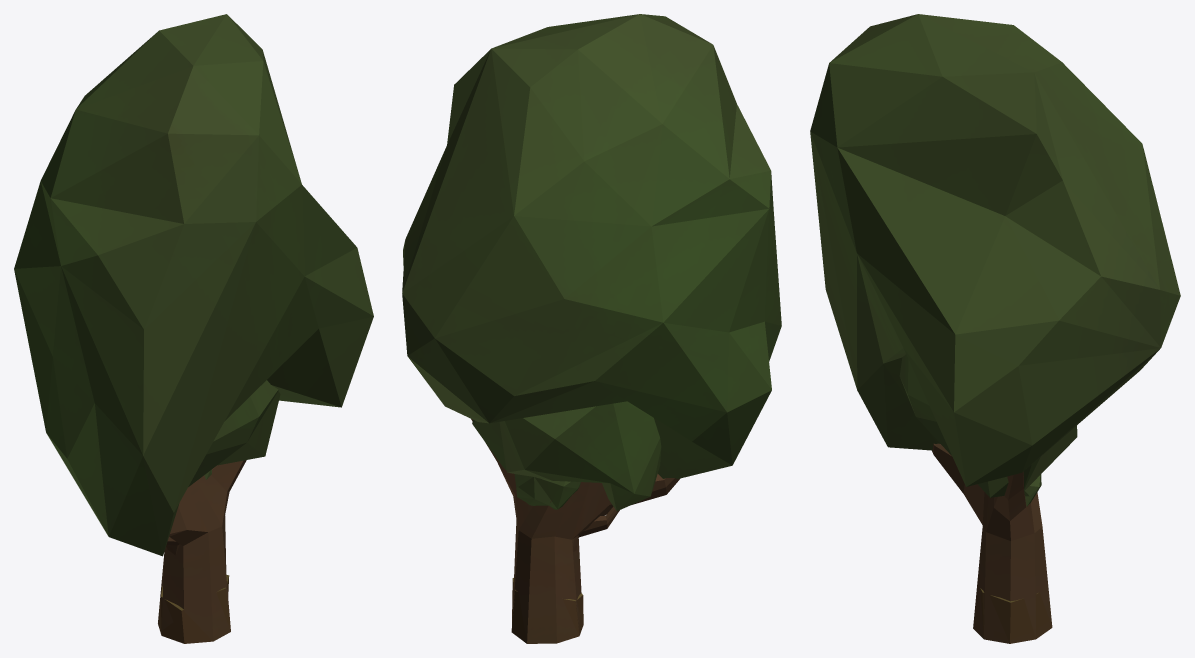
File: tree5V1.fbx
The picture shows the model from 3 angles, left to right: view 1: azimuth 30°, elevation 25°; view 2: azimuth 150°, elevation 25°; view 3: azimuth 270°, elevation 25°; orthographic projection. The views are drawn at different scales.
Parts seen in each view (by area): view 1: Tree5, Tree5Stage3, Tree5Stub; view 2: Tree5, Tree5Stage3, Tree5Stage2, Tree5Stub; view 3: Tree5, Tree5Stage3, Tree5Stub.
Part boxes in pixels (left/top/right/bottom): Tree5: left=14, top=14, right=373, bottom=641; Tree5Stage3: left=166, top=380, right=280, bottom=555; Tree5Stub: left=158, top=574, right=230, bottom=643; Tree5: left=402, top=14, right=781, bottom=643; Tree5Stage3: left=472, top=401, right=661, bottom=551; Tree5Stage2: left=514, top=474, right=580, bottom=509; Tree5Stub: left=511, top=578, right=583, bottom=643; Tree5: left=810, top=14, right=1180, bottom=643; Tree5Stage3: left=899, top=354, right=1077, bottom=497; Tree5Stub: left=980, top=588, right=1052, bottom=643.
Size of what is drawn, in the model's own units: 263 by 463 by 262.
